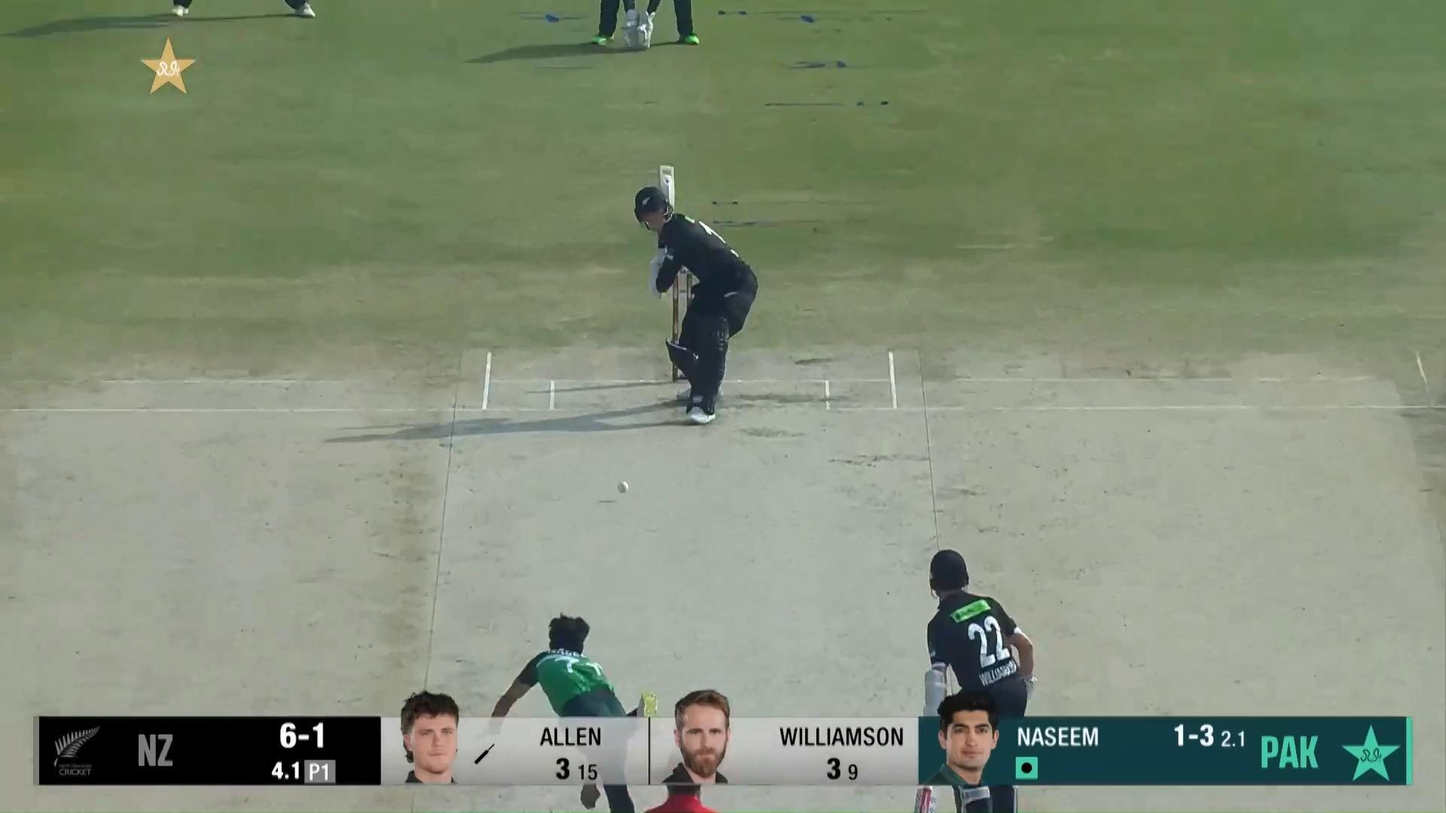BM 1: (633, 166, 759, 425)
BO: (482, 612, 653, 813)
